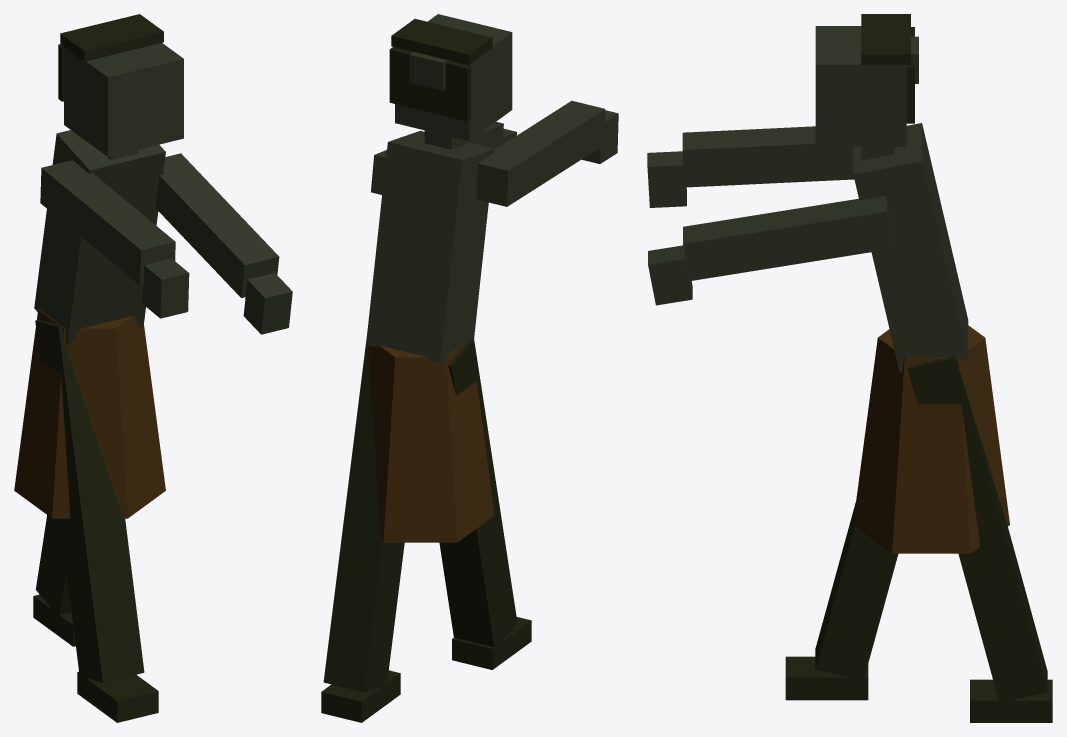
File: SM_ZombiFino_v4_Falda_LOD1.fbx
The picture shows the model from 3 angles, left to right: view 1: azimuth 30°, elevation 25°; view 2: azimuth 150°, elevation 25°; view 3: azimuth 270°, elevation 25°; orthographic projection. The views are drawn at different scales.
Parts seen in each view (by area): view 1: SM_zombi_fino_v4_LOD1; view 2: SM_zombi_fino_v4_LOD1; view 3: SM_zombi_fino_v4_LOD1.
Boxes of the visible parts, bbox=[...] form: SM_zombi_fino_v4_LOD1: bbox=[14, 14, 292, 722]; SM_zombi_fino_v4_LOD1: bbox=[321, 14, 618, 722]; SM_zombi_fino_v4_LOD1: bbox=[647, 14, 1052, 722].
Bounding box in the file's own units: 0.4 × 1.78 × 0.9796.
